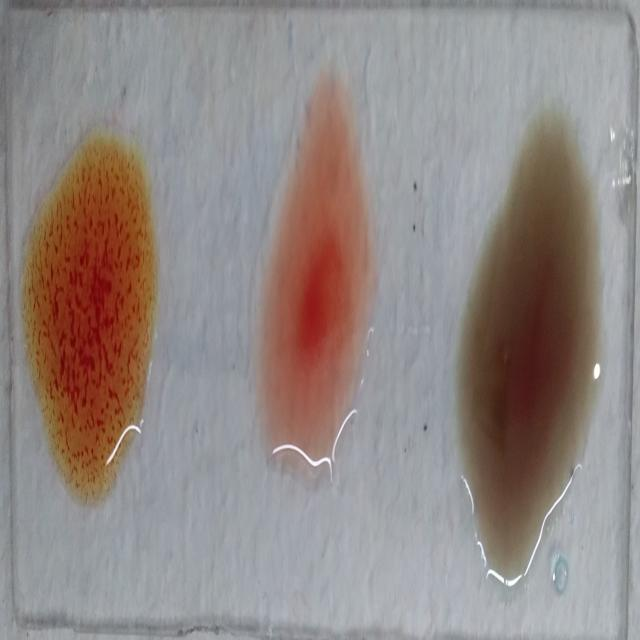B: (23, 133, 152, 492)
